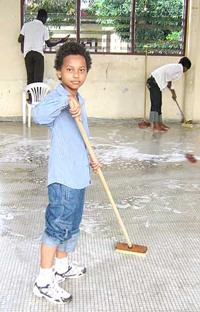person: (31, 42, 103, 306)
